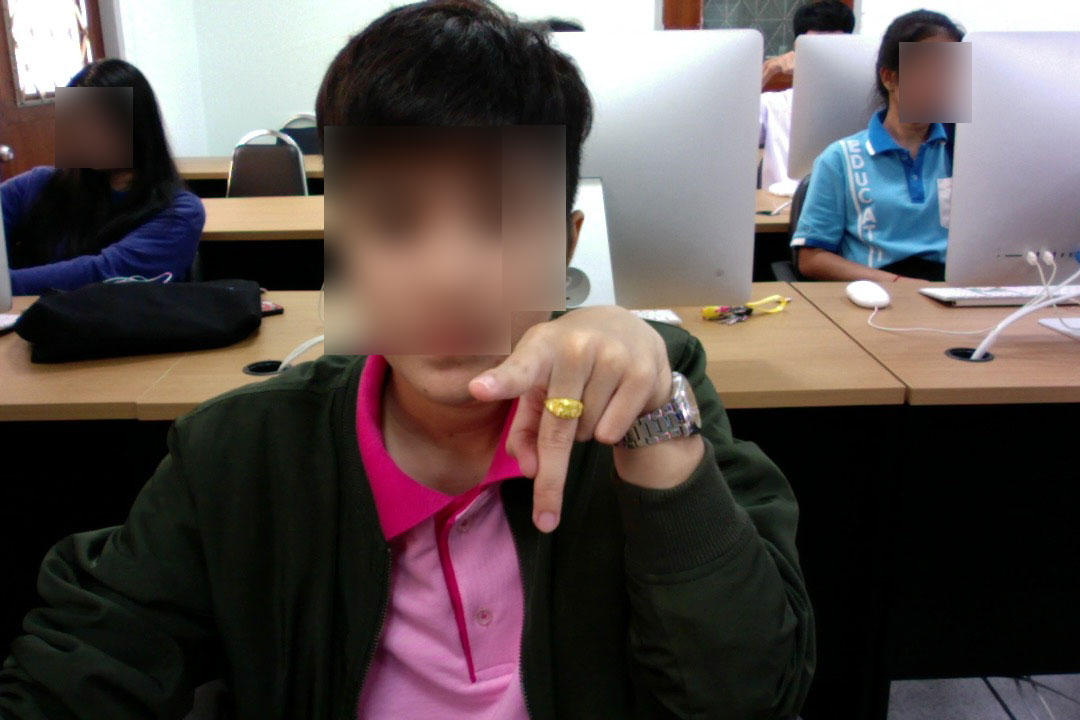por: (466, 286, 674, 539)
